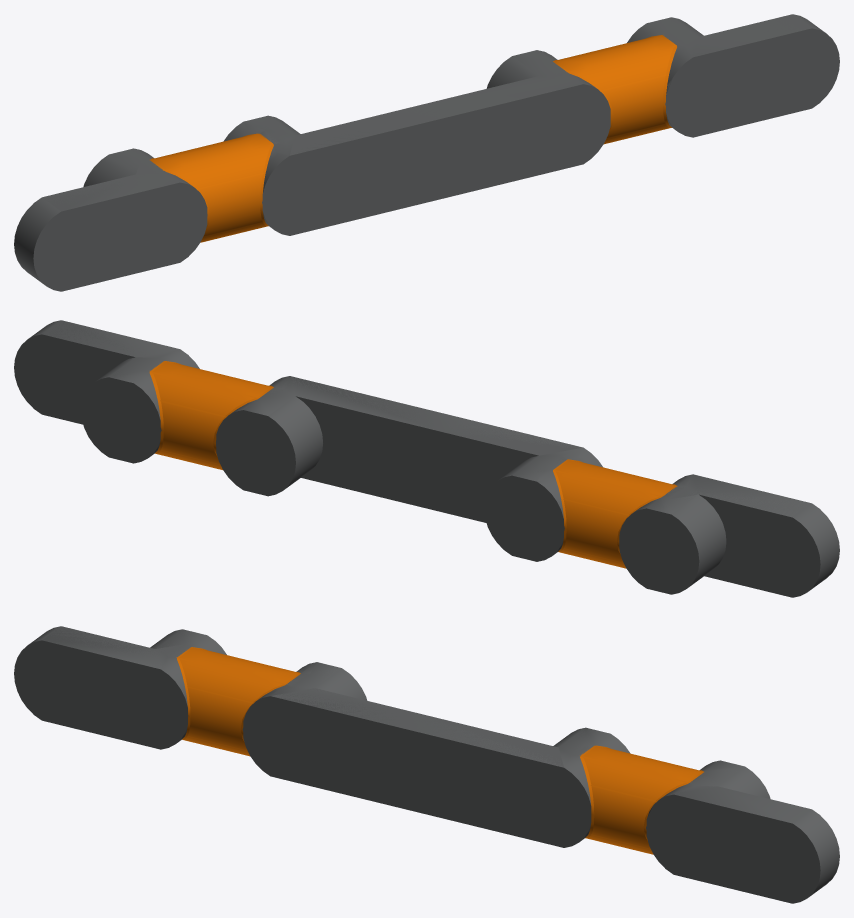
3 views of the same model, one above another, from view 1: azimuth 30°, elevation 25°; view 2: azimuth 150°, elevation 25°; view 3: azimuth 330°, elevation 25° (orthographic).
Parts seen in each view (by area): view 1: l1_LOD0, l1_col; view 2: l1_LOD0, l1_col; view 3: l1_LOD0, l1_col.
Boxes of the visible parts, left/top/right/bottom form: l1_LOD0: left=14, top=14, right=839, bottom=291; l1_col: left=33, top=16, right=839, bottom=289; l1_LOD0: left=14, top=320, right=839, bottom=597; l1_col: left=14, top=322, right=819, bottom=597; l1_LOD0: left=14, top=626, right=839, bottom=903; l1_col: left=14, top=626, right=820, bottom=903.
Size of what is drawn, in the model's own units: 120 by 11.93 by 12.
